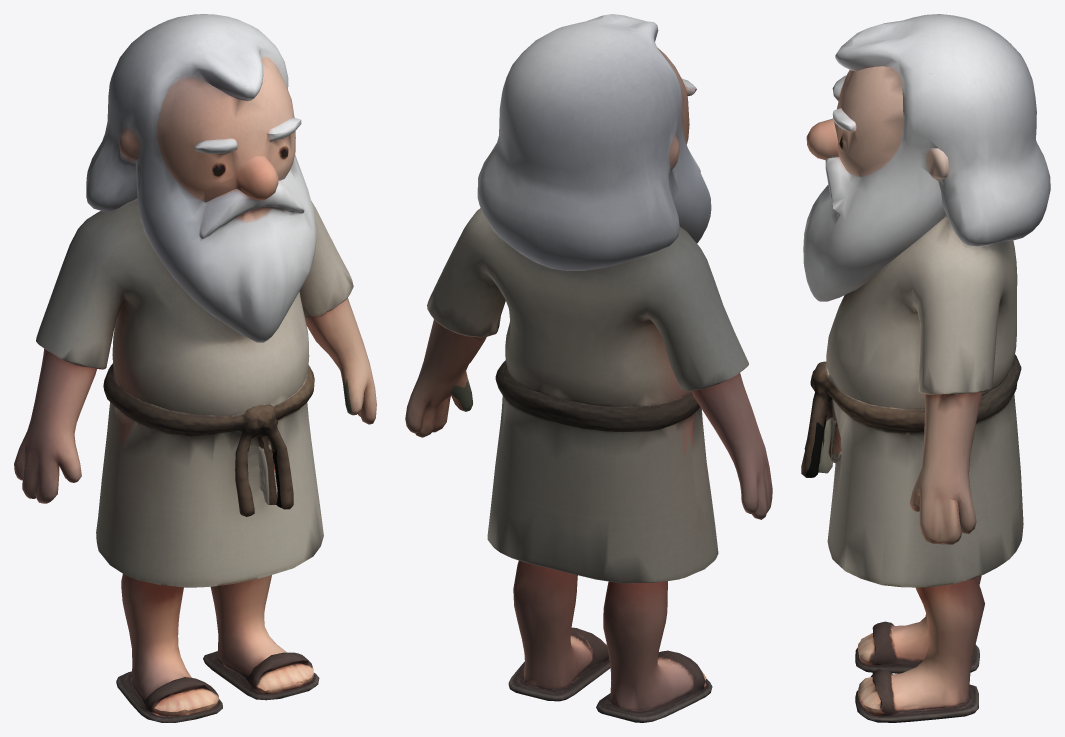
File: noe_frente_s7.glb
3 renders of one model, left to right at view 1: azimuth 30°, elevation 25°; view 2: azimuth 150°, elevation 25°; view 3: azimuth 270°, elevation 25°, orthographic.
Visible parts, largest first — view 1: esposa; view 2: esposa; view 3: esposa.
Boxes of the visible parts, x1,y1,x2,y2 form: esposa: (14, 14, 376, 722); esposa: (405, 14, 772, 722); esposa: (801, 14, 1050, 722).
Bounding box in the file's own units: 0.8268 × 1.5 × 0.5134.
Materials: 1 (1 with a texture image).
